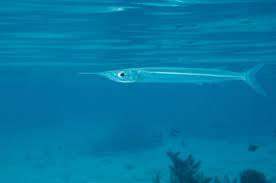sayori: (76, 62, 264, 99)
